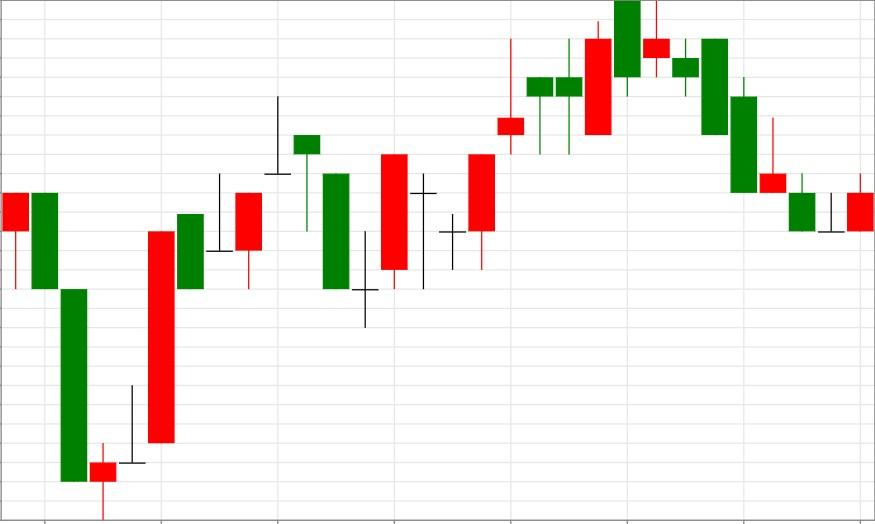hanging_man_fall: (89, 96, 321, 522)
morning_star_rise: (614, 0, 875, 234), (264, 96, 409, 328)
